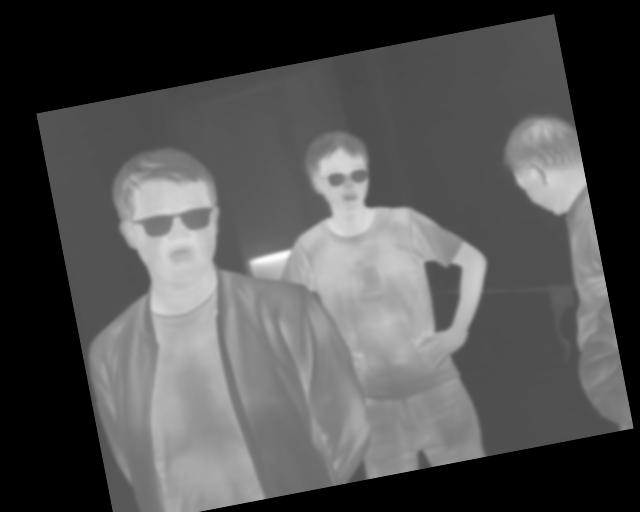face: (105, 138, 233, 297), (299, 124, 379, 218)
